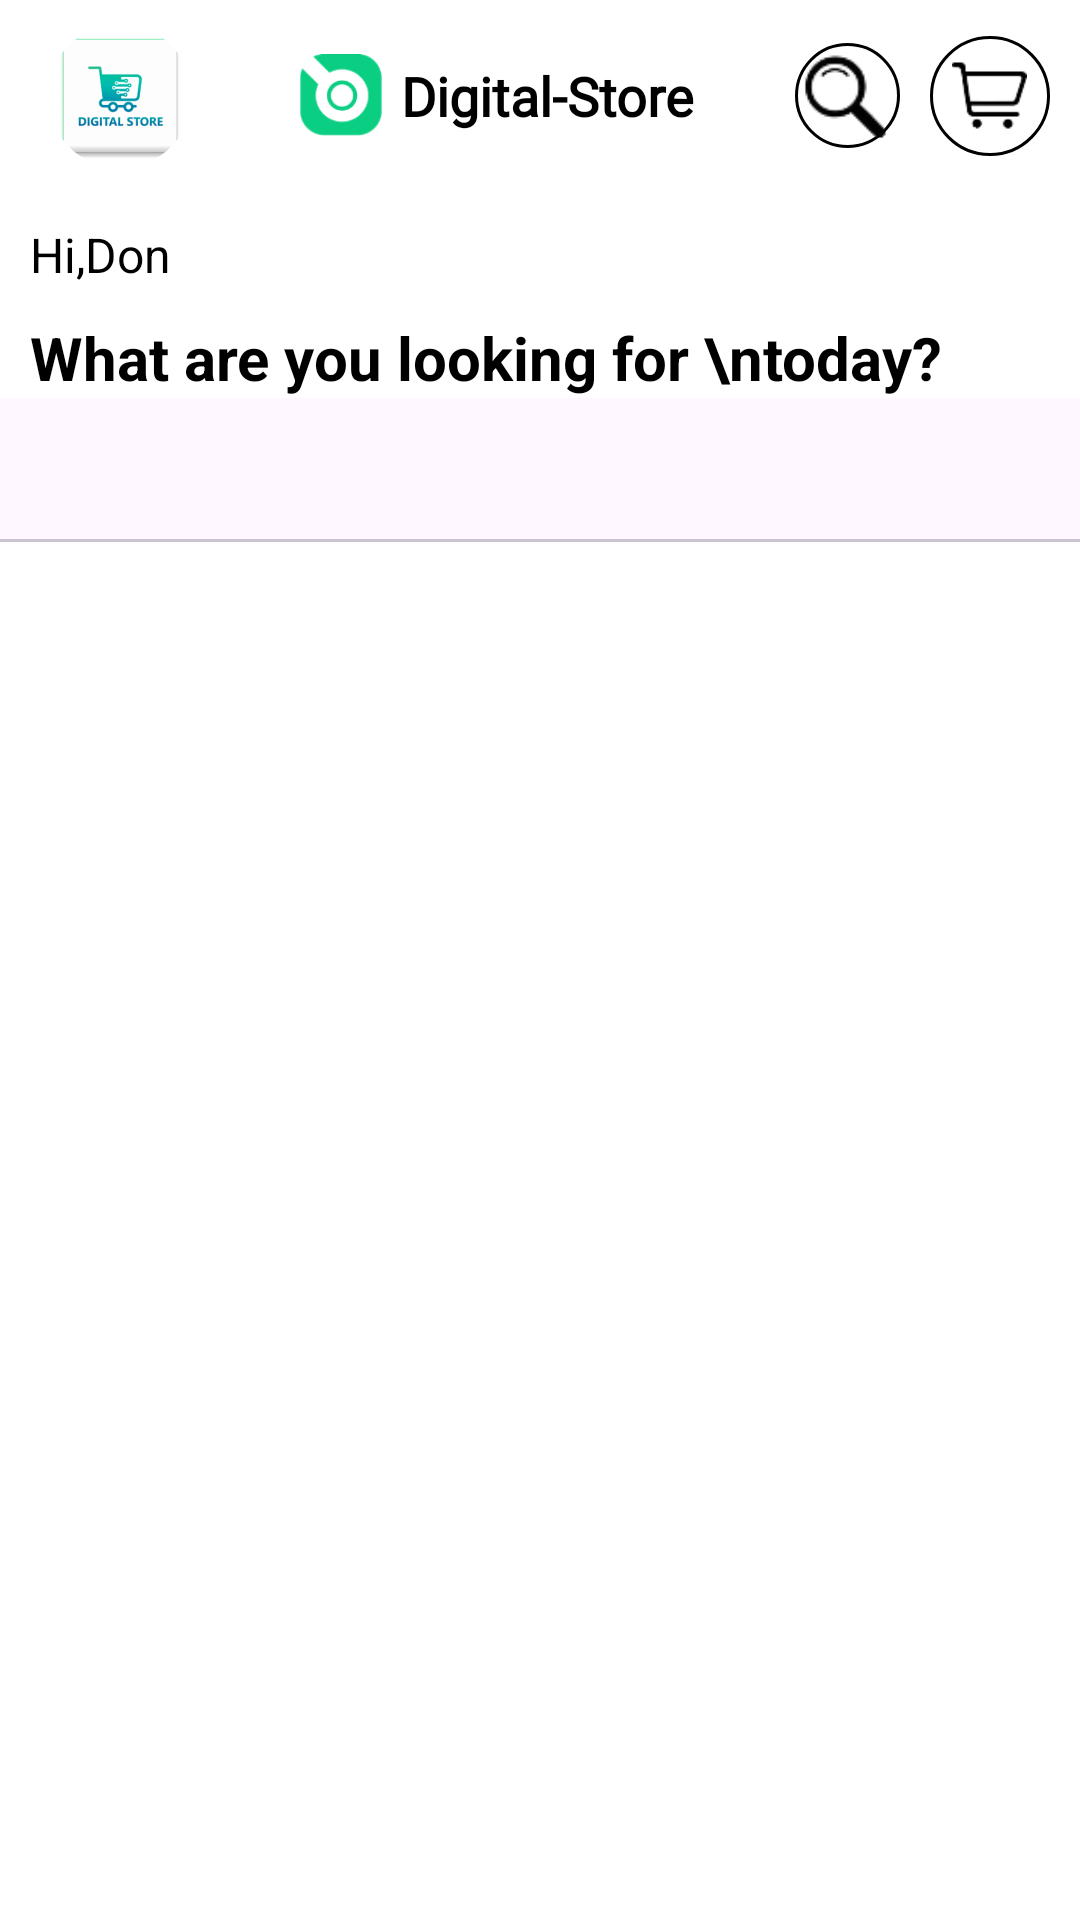

Icon click points for this 1080px x 1920px phone screenshot, format point (x, y):
pic search: point (847, 95)
